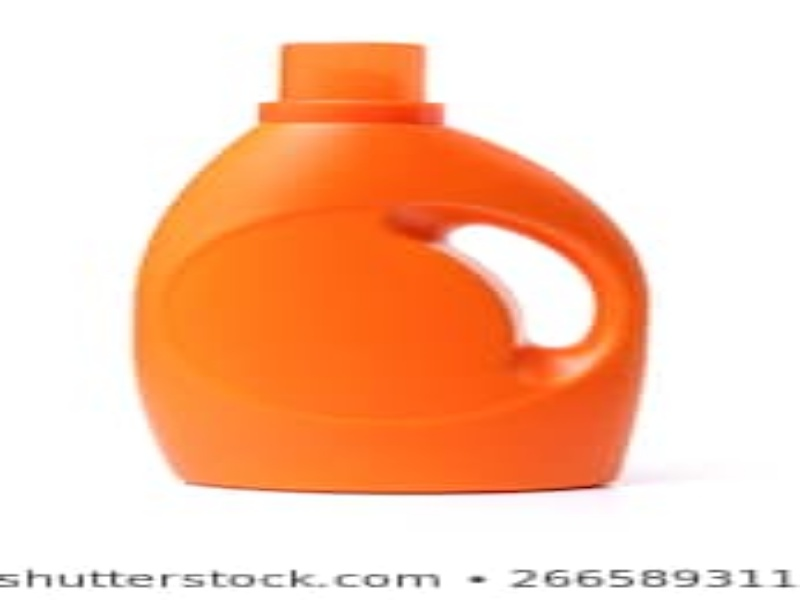bottle-cap: (248, 38, 454, 124)
detergent-bottle: (128, 36, 644, 493)
